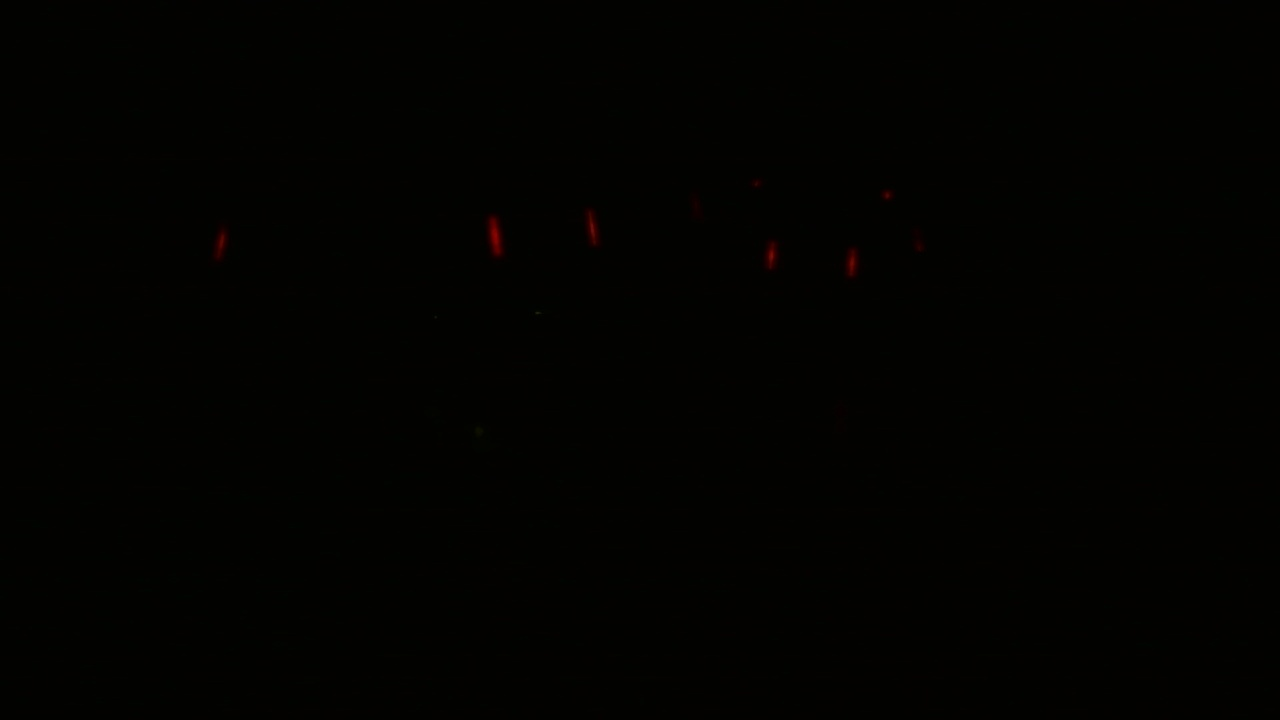pair1: (482, 202, 612, 263)
pair2: (756, 231, 873, 291)
